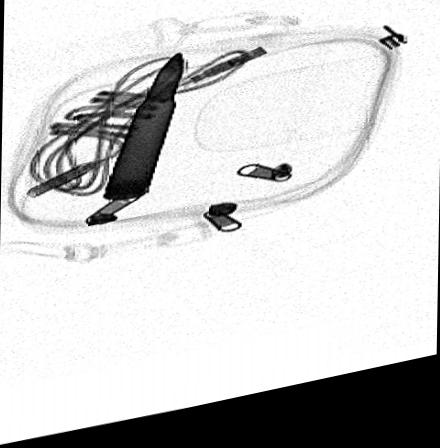Bullet: (100, 59, 184, 207)
